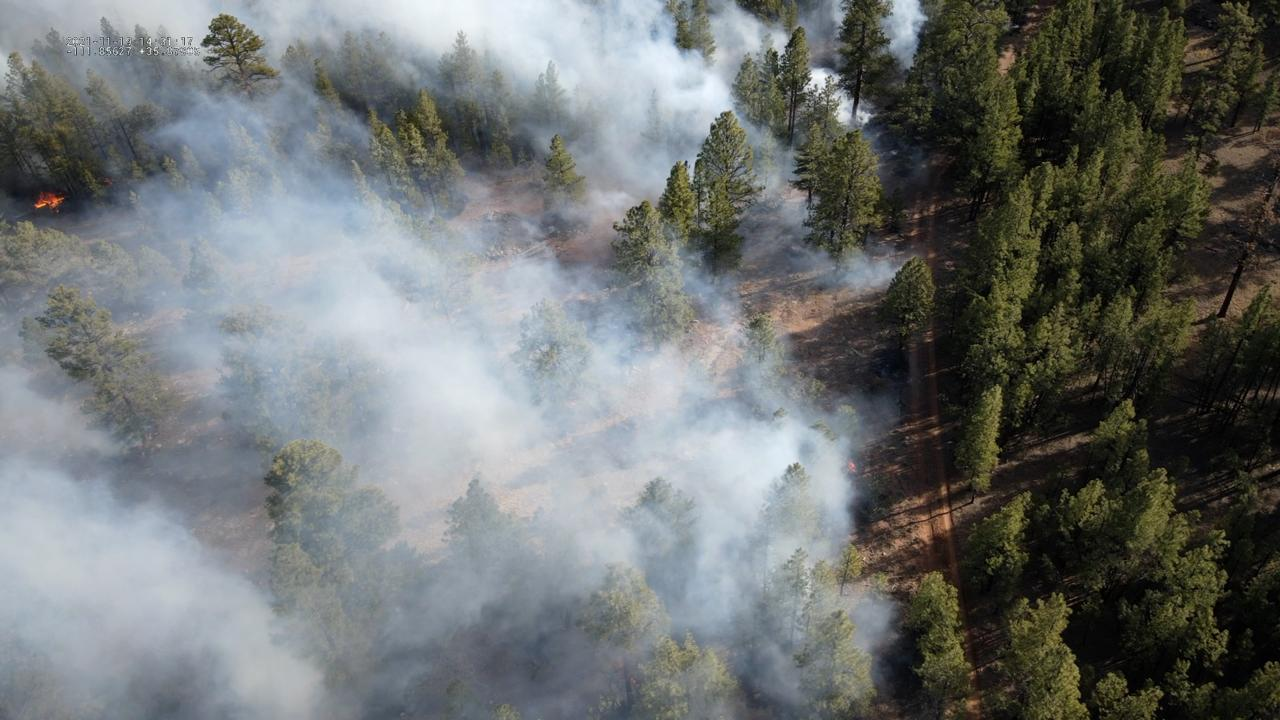fire: (32, 189, 67, 215), (844, 460, 857, 476), (102, 176, 114, 186)
smoke: (0, 0, 932, 720)
